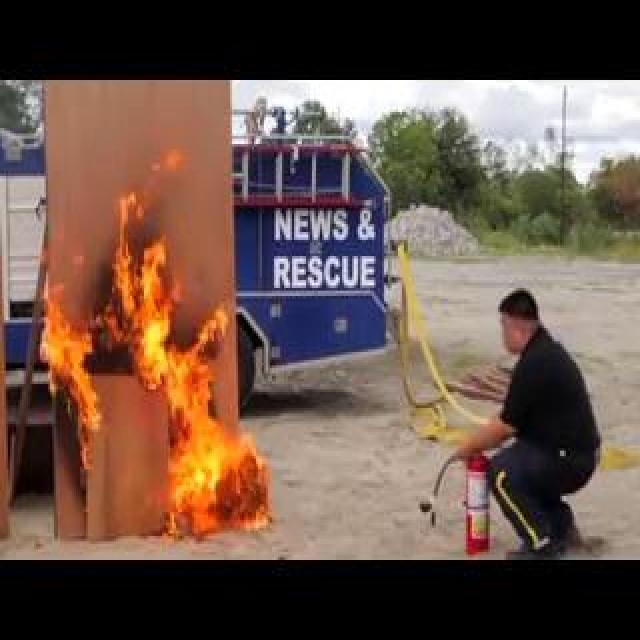Fire: (143, 346, 274, 394)
